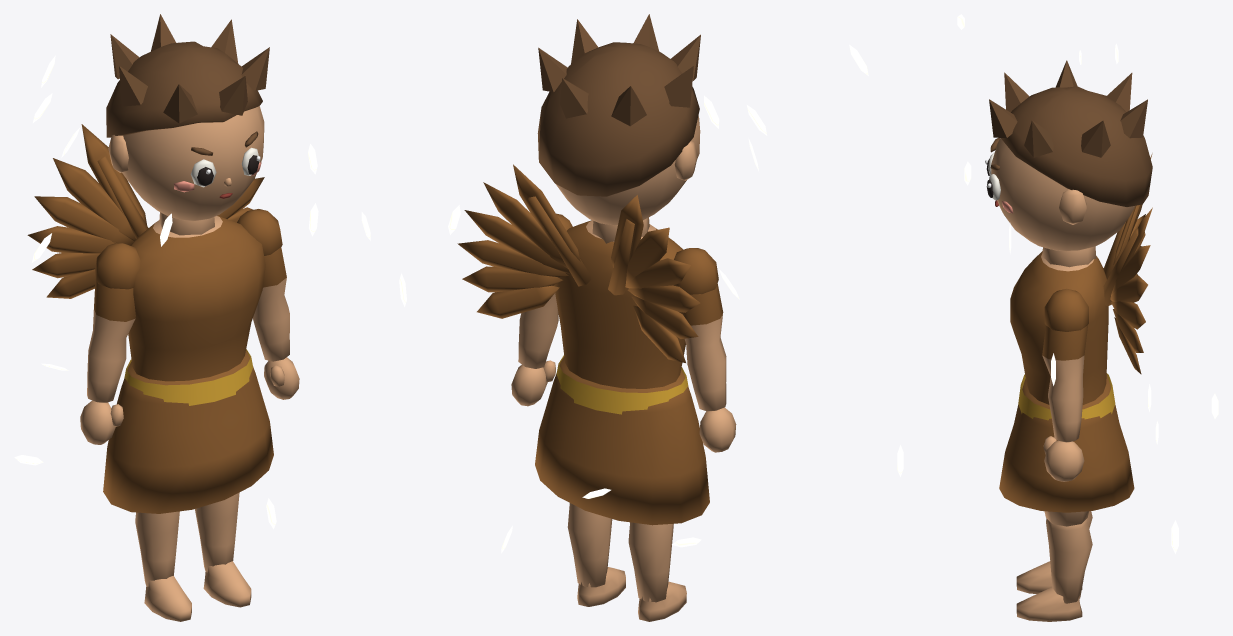
The model's file is harpyie.glb.
The picture shows the model from 3 angles, left to right: view 1: azimuth 30°, elevation 25°; view 2: azimuth 150°, elevation 25°; view 3: azimuth 270°, elevation 25°; orthographic projection. The views are drawn at different scales.
Visible parts, largest first — view 1: rumpf, huefte, haare, kopf, fluegelL, armL, armR, knieL, knieR, vfx_federn_1, vfx_federn_0, fluegelR (+2 smaller); view 2: haare, huefte, rumpf, fluegelR, fluegelL, armL, kopf, knieL, knieR, armR, vfx_federn_2; view 3: haare, huefte, rumpf, kopf, armR, knieR, fluegelR, fluegelL, knieL, beinR, vfx_federn_1, vfx_federn_2.
Boxes of the visible parts, x1,y1,x2,y2 form: rumpf: (124, 215, 265, 405); huefte: (103, 351, 273, 513); haare: (106, 14, 269, 137); kopf: (108, 106, 264, 235); fluegelL: (27, 124, 148, 298); armL: (80, 243, 140, 444); armR: (237, 209, 299, 399); knieL: (135, 511, 191, 621); knieR: (195, 492, 251, 607); vfx_federn_1: (61, 128, 318, 529); vfx_federn_0: (32, 55, 370, 262); fluegelR: (218, 177, 264, 222); haare: (537, 14, 700, 196); huefte: (535, 357, 709, 525); rumpf: (554, 220, 688, 414); fluegelR: (457, 164, 591, 318); fluegelL: (608, 195, 700, 362); armL: (673, 248, 736, 452); kopf: (556, 115, 700, 243); knieL: (628, 522, 686, 621); knieR: (567, 503, 625, 606); armR: (511, 213, 572, 406); vfx_federn_2: (501, 105, 767, 553); haare: (989, 60, 1152, 206); huefte: (999, 375, 1134, 512); rumpf: (1010, 251, 1115, 420); kopf: (991, 138, 1135, 267); armR: (1042, 288, 1088, 481); knieR: (1016, 518, 1092, 621); fluegelR: (1103, 207, 1152, 374); fluegelL: (1103, 153, 1152, 279); knieL: (1016, 511, 1092, 593); beinR: (1044, 511, 1088, 526); vfx_federn_1: (897, 14, 1151, 476); vfx_federn_2: (1079, 50, 1218, 553).
Bounding box in the file's own units: 1.58 × 2.3 × 1.31.
